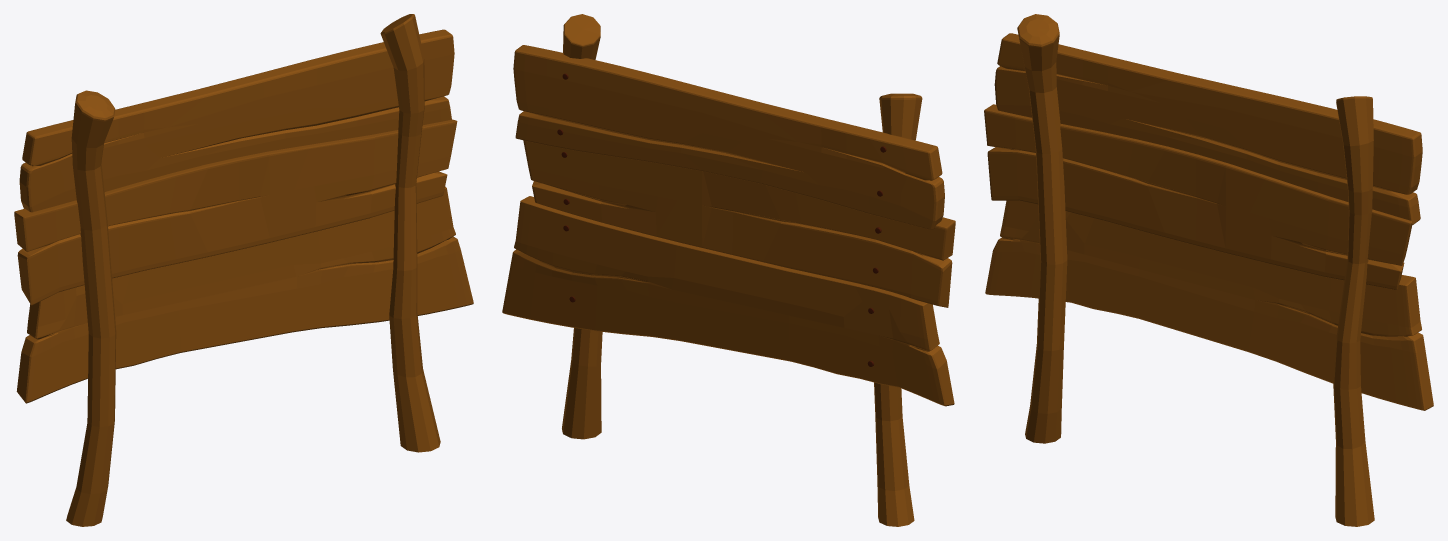
The model's file is cartel_mingames.FBX.
The picture shows the model from 3 angles, left to right: view 1: azimuth 30°, elevation 25°; view 2: azimuth 150°, elevation 25°; view 3: azimuth 330°, elevation 25°; orthographic projection.
Visible parts, largest first — view 1: Planks, Poles; view 2: Planks, Poles; view 3: Planks, Poles.
Part boxes in pixels (x1,y1,x2,y2): Planks: [14, 29, 473, 403]; Poles: [66, 14, 440, 526]; Planks: [502, 45, 955, 406]; Poles: [562, 14, 922, 526]; Planks: [984, 33, 1433, 410]; Poles: [1017, 14, 1374, 526].
Bounding box in the file's own units: 296 × 269 × 38.21.
